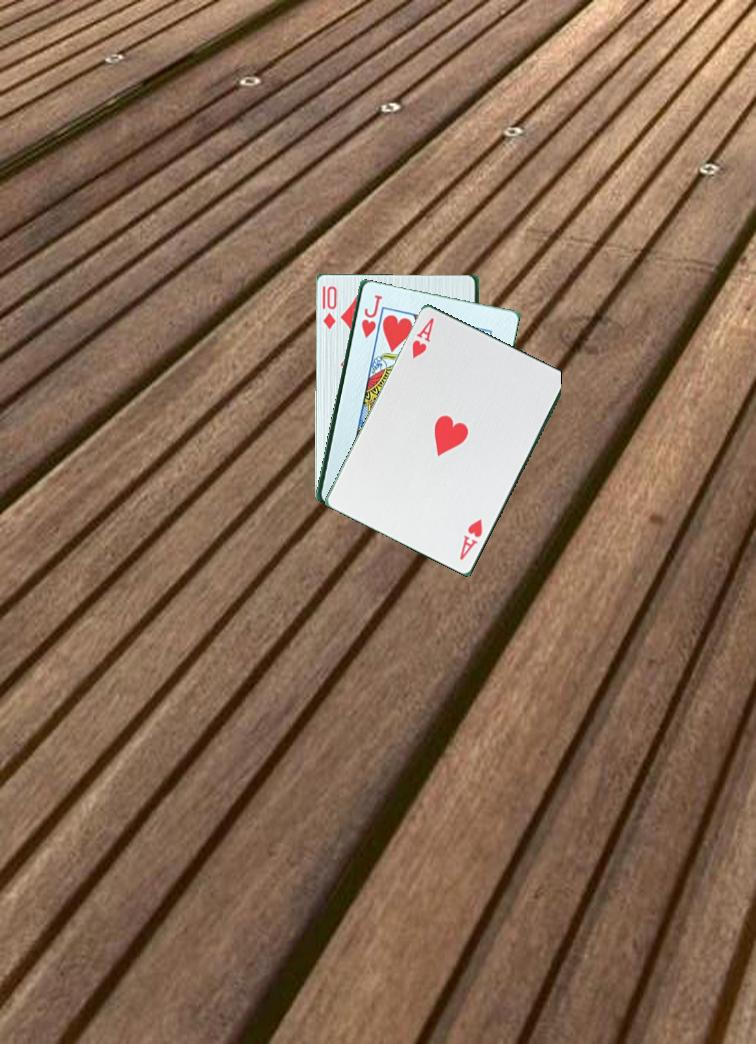ah: (406, 314, 437, 361), (456, 515, 485, 563)
jh: (358, 291, 383, 341)
td: (319, 282, 339, 332)
